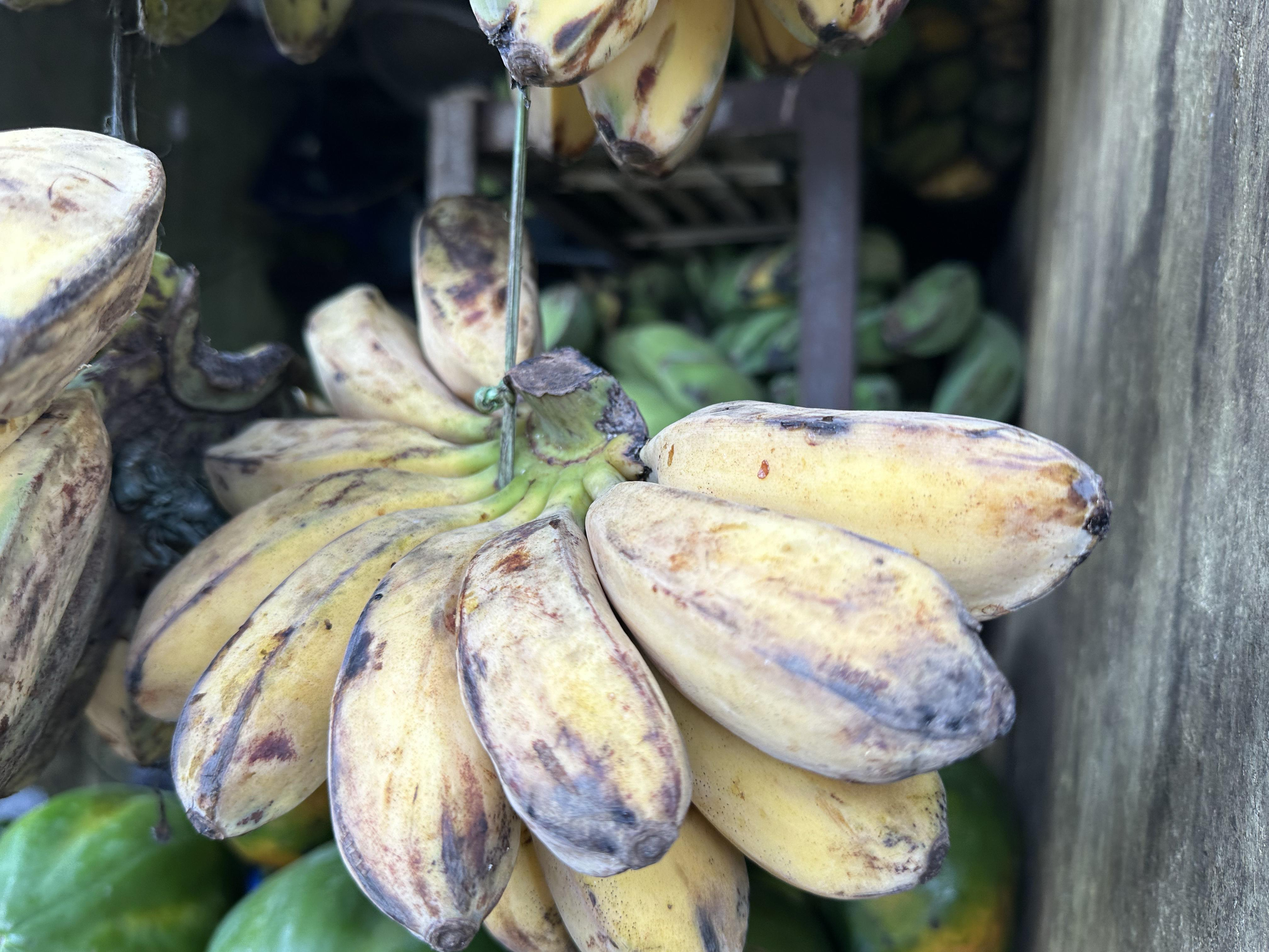ripe: (128, 198, 1110, 952), (0, 128, 165, 795), (464, 0, 914, 181)
